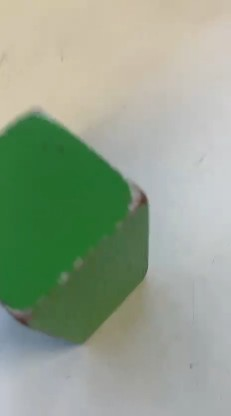green: (0, 108, 156, 346)
